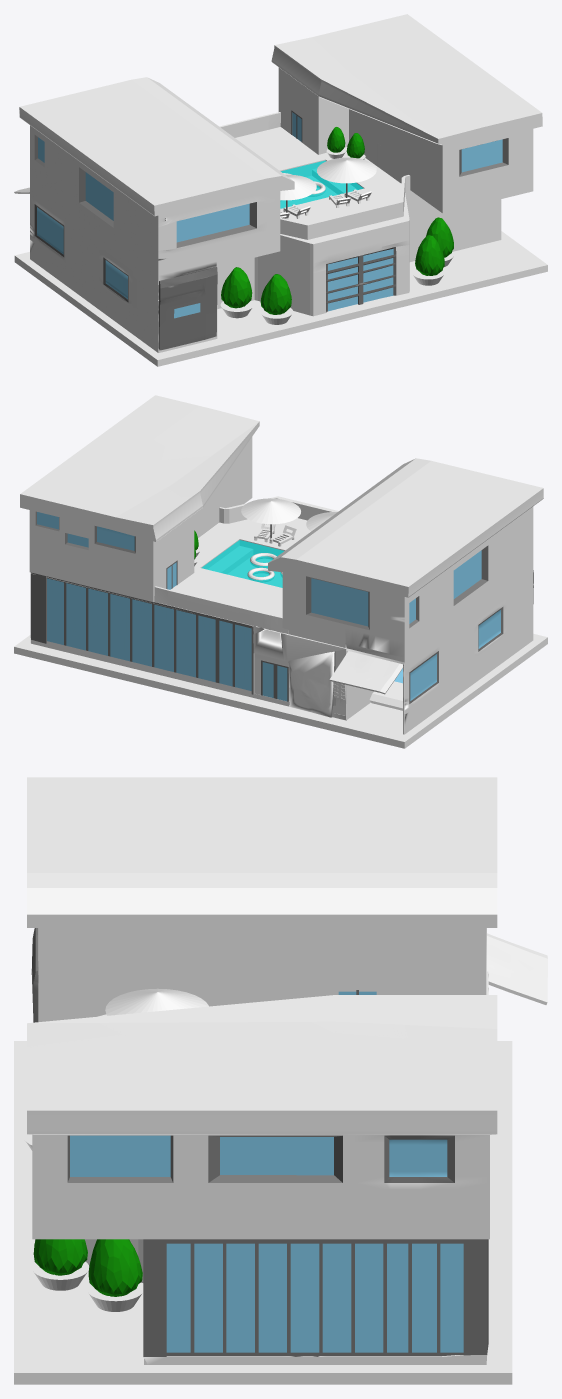
Rendered from House5.fbx.
3 views of the same model, one above another, from view 1: azimuth 30°, elevation 25°; view 2: azimuth 150°, elevation 25°; view 3: azimuth 270°, elevation 25° (orthographic). The views are drawn at different scales.
Parts seen in each view (by area): view 1: Cube.001; view 2: Cube.001; view 3: Cube.001.
Part boxes in pixels (x1,y1,x2,y2): Cube.001: (14, 14, 547, 366); Cube.001: (14, 395, 547, 748); Cube.001: (14, 777, 547, 1384).
Size of the model in its own units: 2556 by 991 by 1739.
